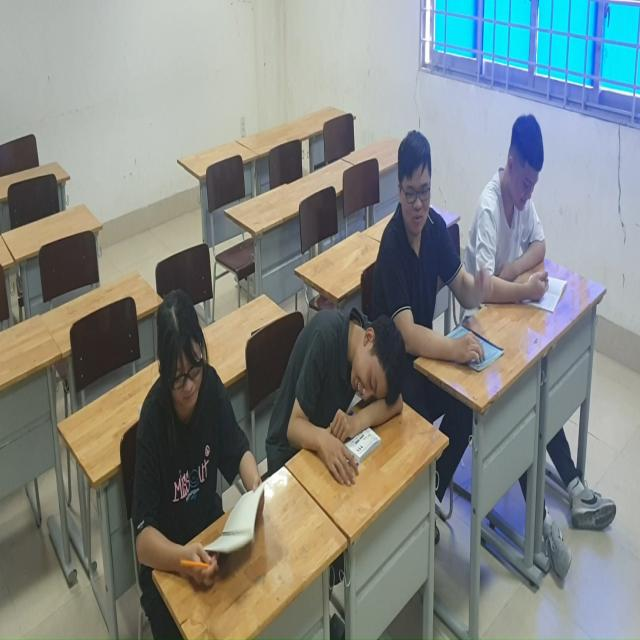read: (132, 289, 260, 592), (472, 113, 575, 334)
sleep: (267, 308, 409, 499)
